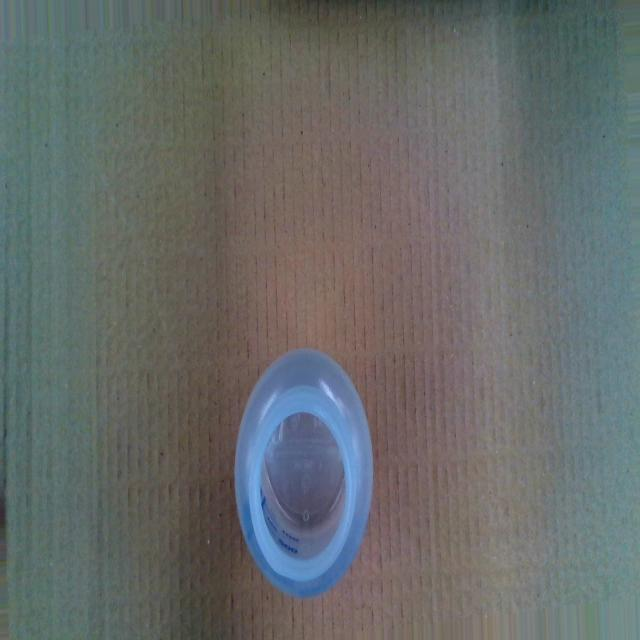bottle: (232, 346, 376, 601)
